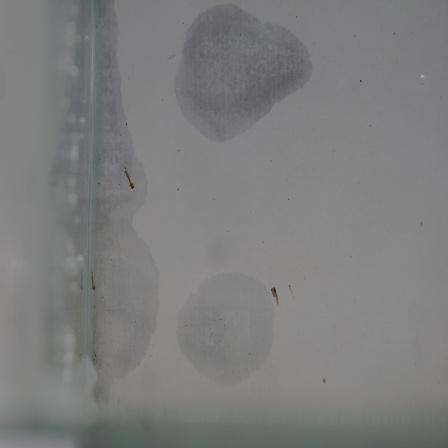Jentik-Nyamuk: (119, 164, 141, 195), (86, 261, 102, 295), (267, 281, 285, 311)
